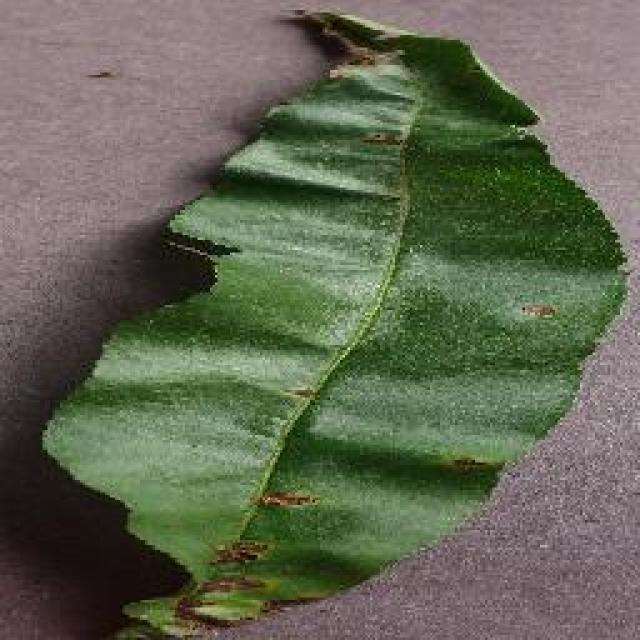Peach_Bacterial_Spot: (200, 363, 348, 625)
